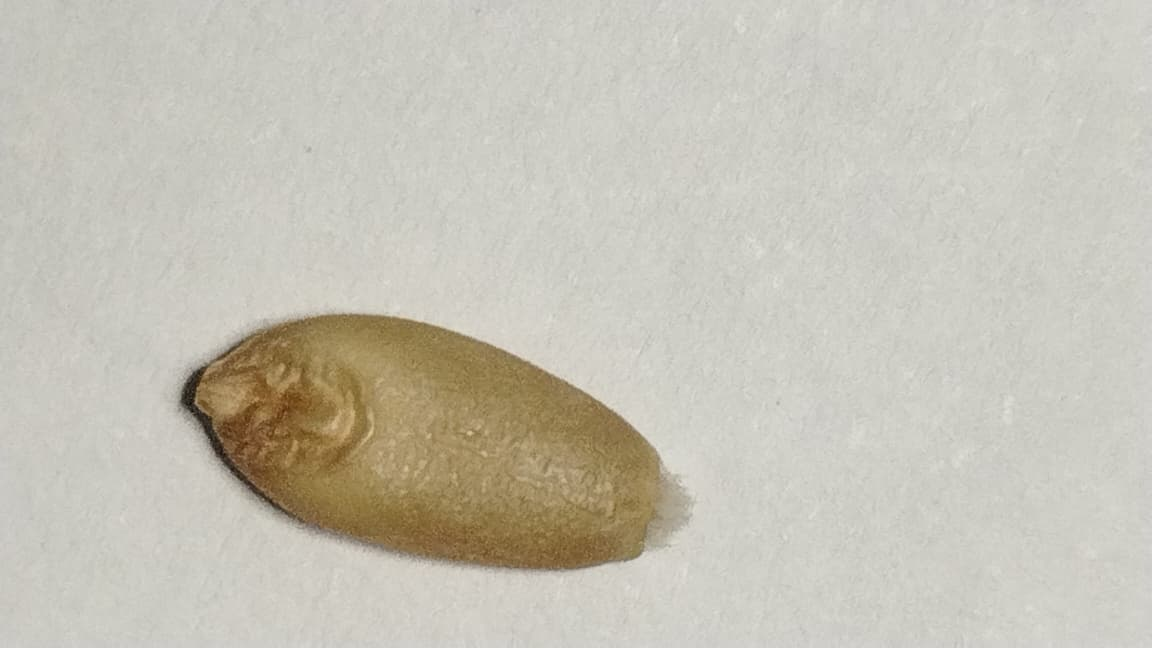healthy: (195, 315, 660, 567)
